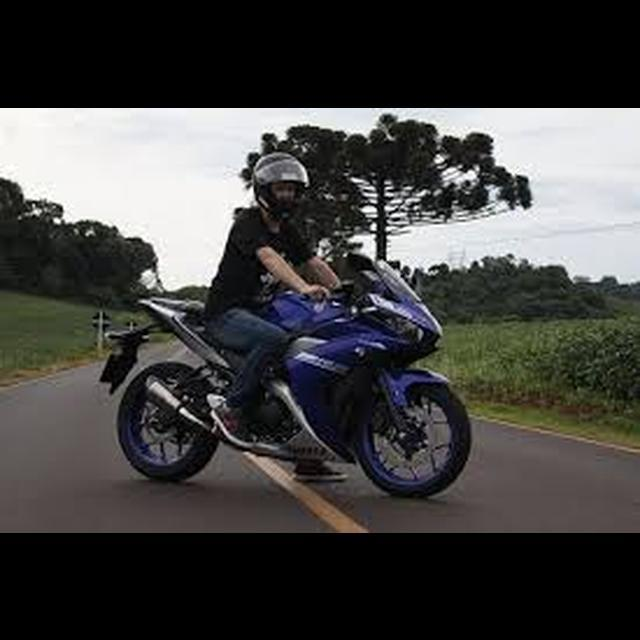motorcycle: (97, 255, 477, 502)
